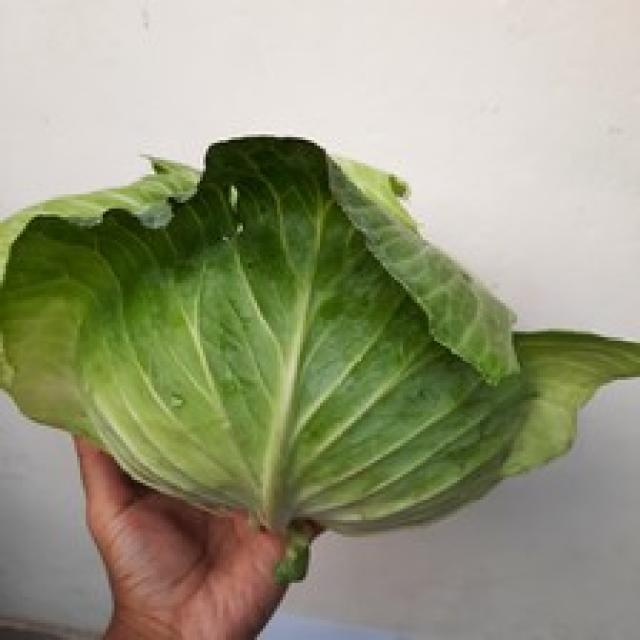Cabbage: (0, 131, 637, 586)
